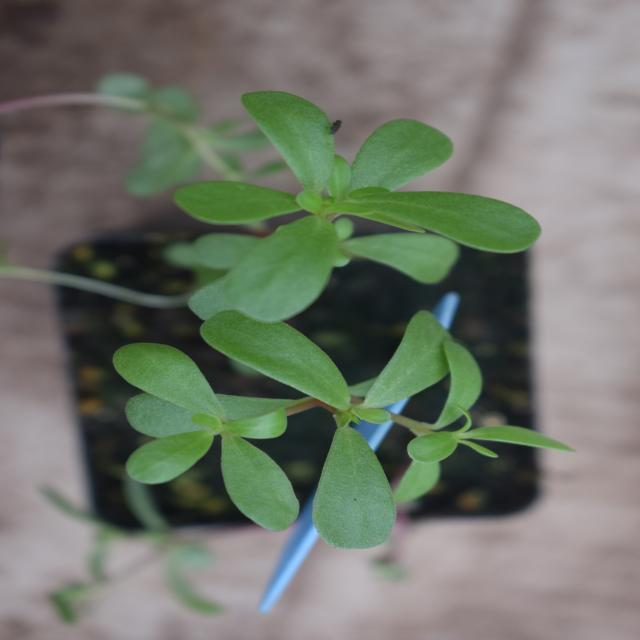purslane: (100, 85, 561, 535)
